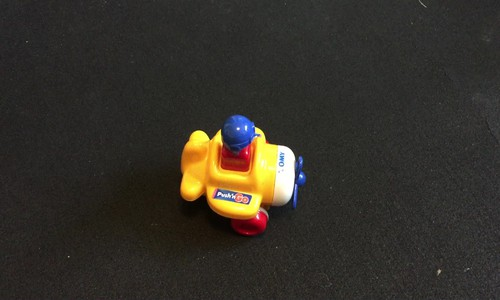toy: (181, 111, 307, 244)
